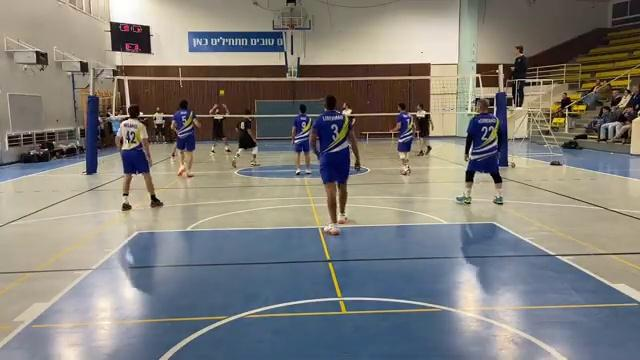ball: (217, 90, 226, 96)
